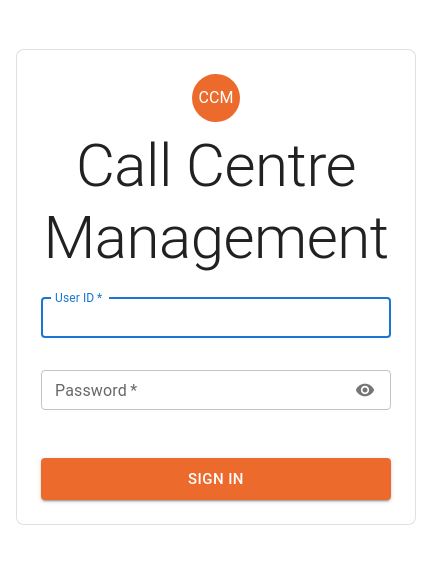
Test: LoginPage › agent login 401 › shows generic error when response body is absent on 401
In the field labelled "User ID": (216,318) [41,298,391,338], type "agent1"
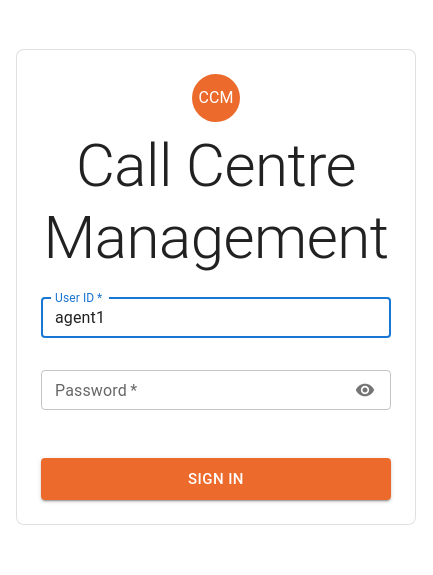
In the password field labelled "Password": (192,390) [41,370,342,410], type "bad-pass"
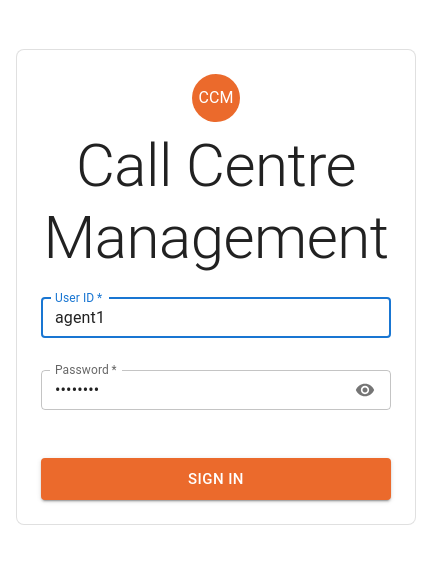
Click the button with aria-label "Sign in to CCM": (216,479) [41,458,391,500]
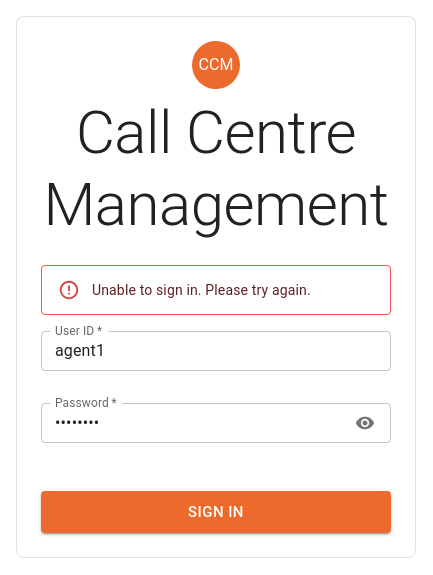
expect the text "Unable to sign in. Please try again." is shown: met, box [92,282,311,298]
